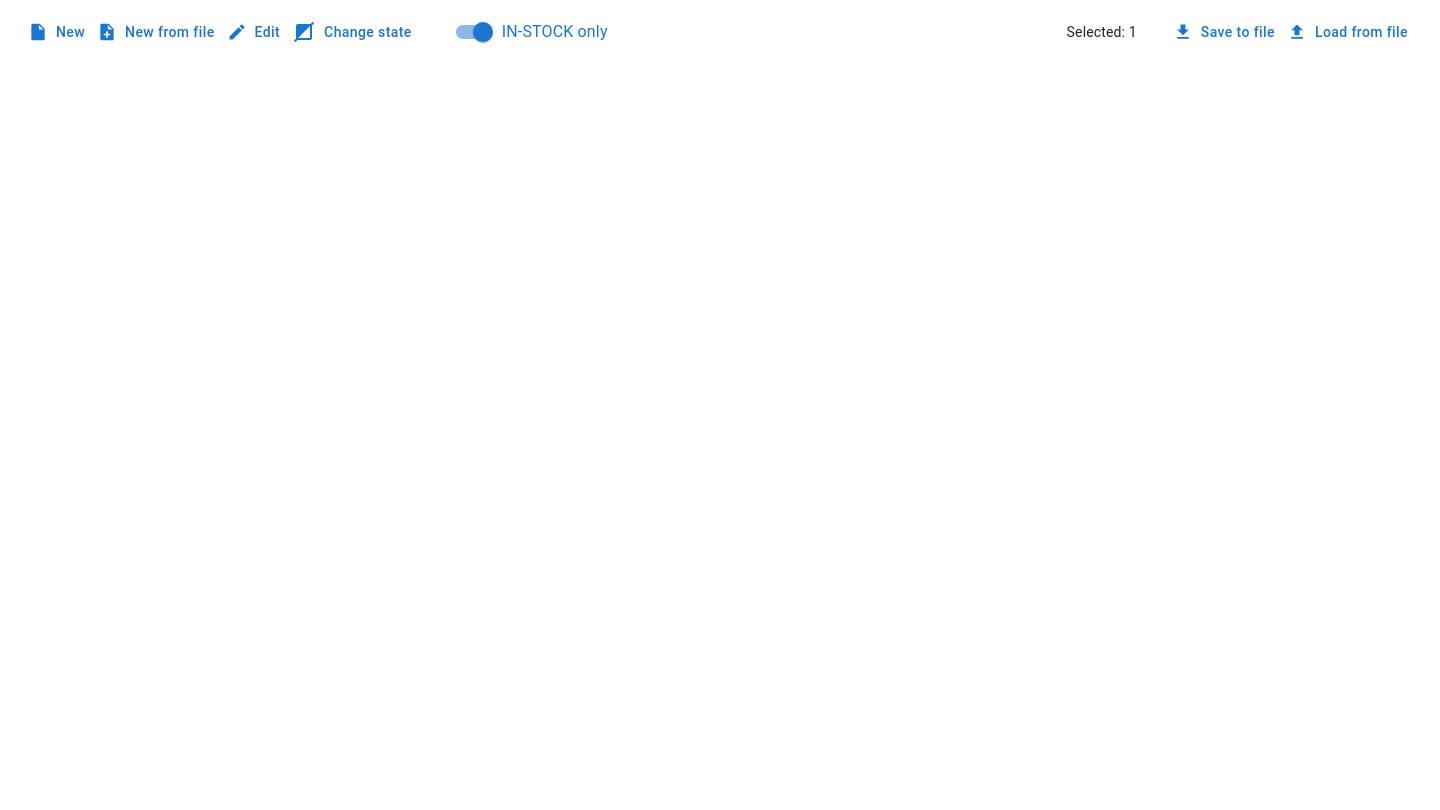
Scenario: State change › shows a message if no events are available
Click the button "Change state" at (354, 32), box [288,14,420,50]
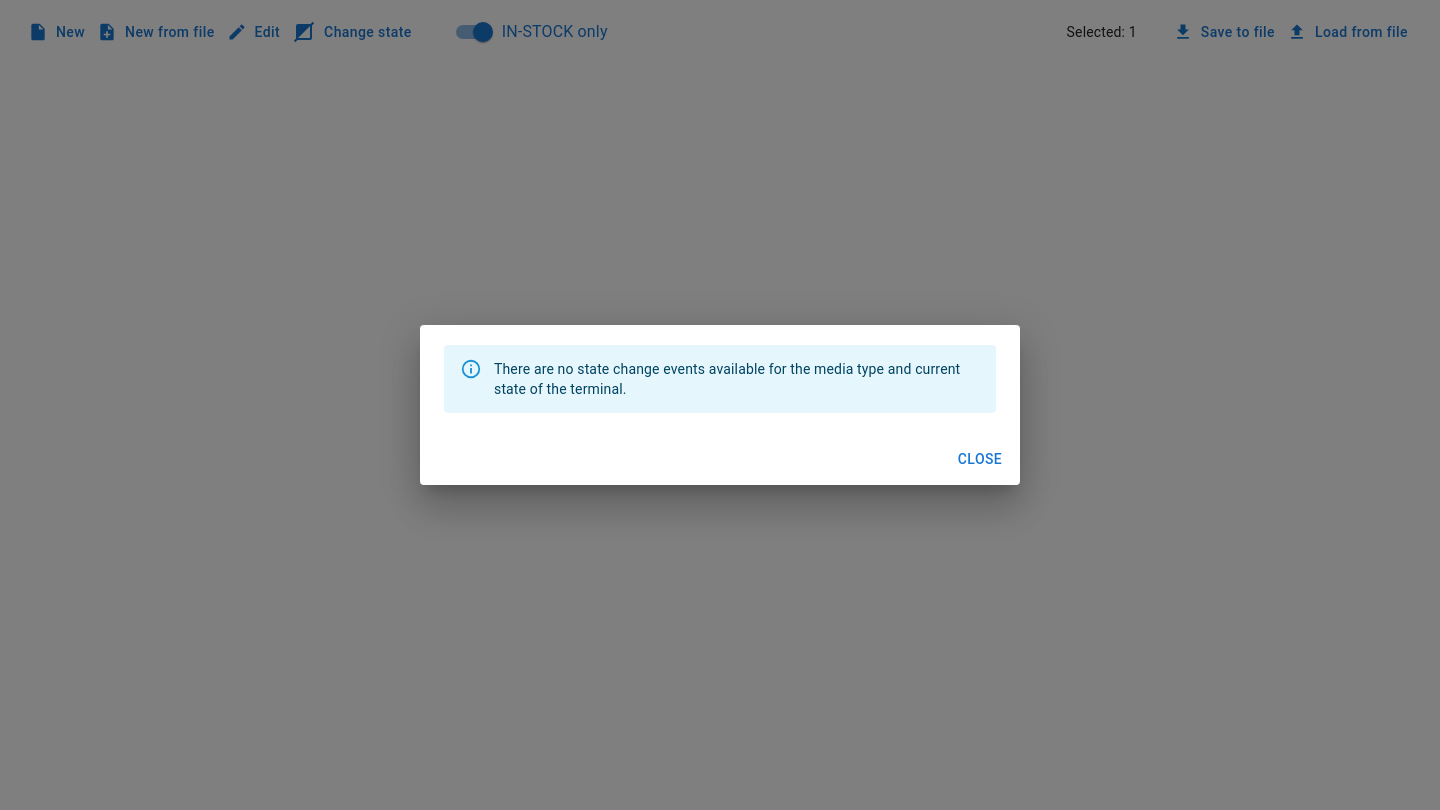
Check: the text "no state change events available" is shown, box [494,361,960,397]
